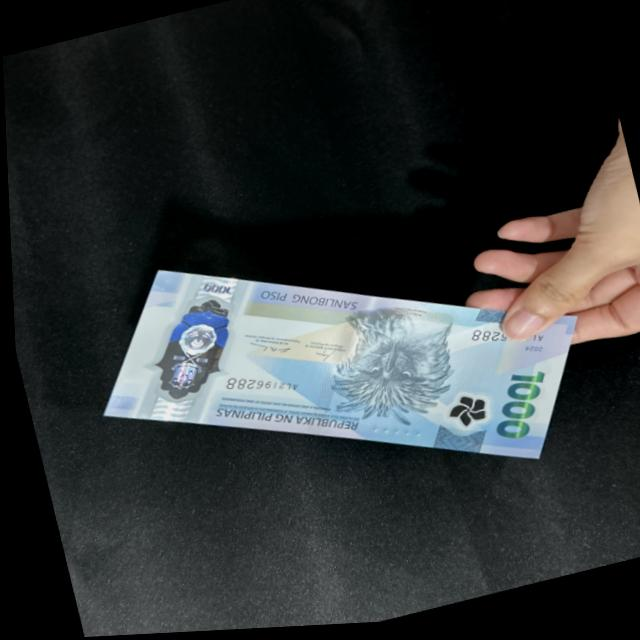clear_window: (126, 287, 250, 415)
eagle: (307, 301, 472, 450)
sampaguita: (445, 396, 489, 435)
serial_number: (217, 356, 305, 418)
